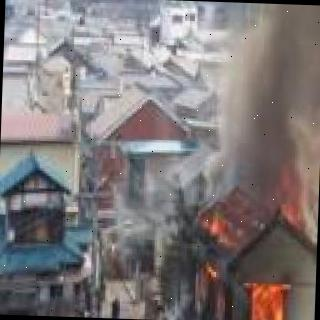fire: (196, 222, 297, 320)
